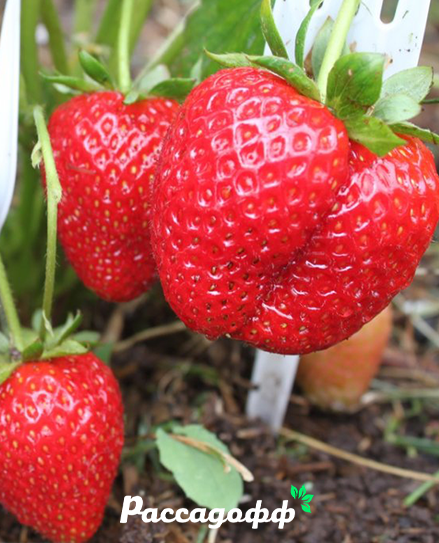peduncle: (318, 0, 360, 101), (0, 256, 22, 351), (117, 0, 133, 93)
strawberry: (152, 67, 438, 353), (49, 91, 178, 301), (0, 353, 123, 542), (296, 306, 391, 411)
